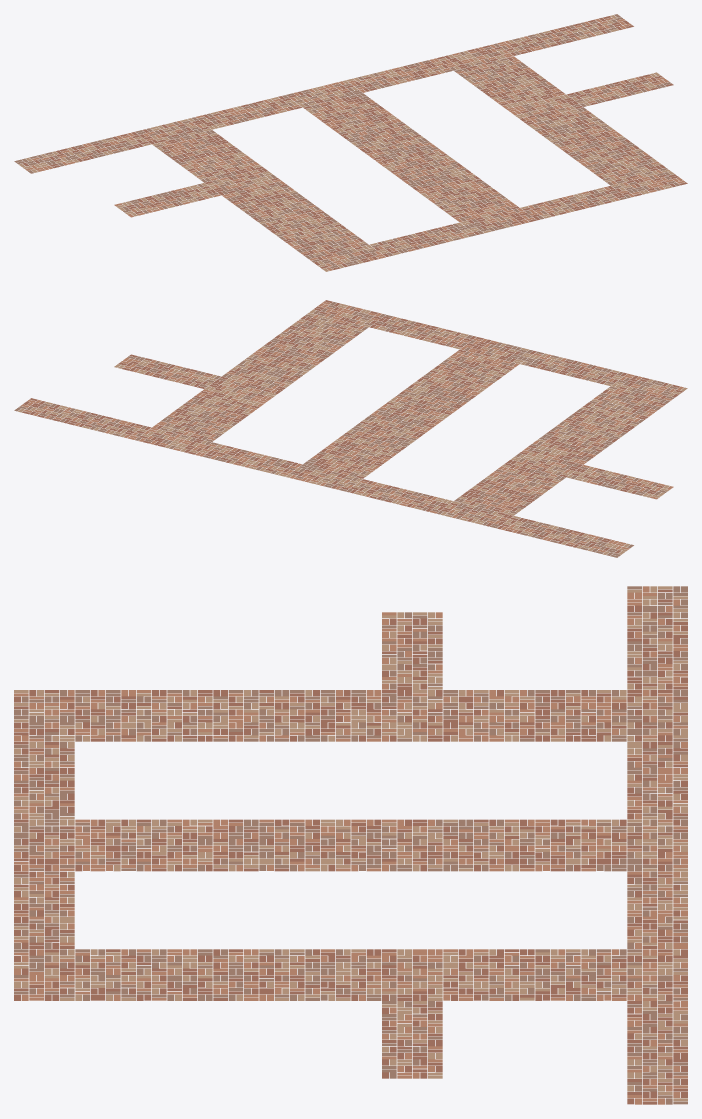
Rendered from rochester-detail.glb.
The picture shows the model from 3 angles, top to bottom: view 1: azimuth 30°, elevation 25°; view 2: azimuth 150°, elevation 25°; view 3: azimuth 270°, elevation 25°; orthographic projection. The views are drawn at different scales.
Parts seen in each view (by area): view 1: rochester finish work; view 2: rochester finish work; view 3: rochester finish work.
Boxes of the visible parts, x1,y1,x2,y2 form: rochester finish work: (14, 14, 687, 271); rochester finish work: (14, 300, 687, 557); rochester finish work: (14, 586, 687, 1104).
Size of the model in its own units: 47.97 by 0.00587 by 26.37.
